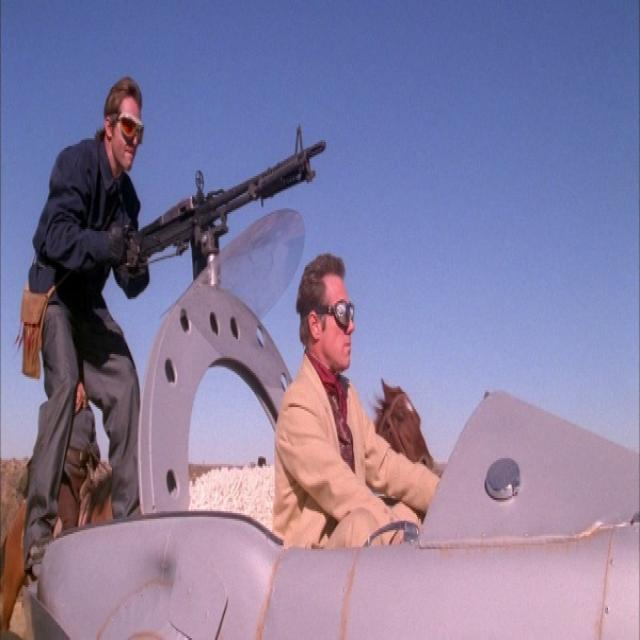rifle: (127, 127, 334, 290)
